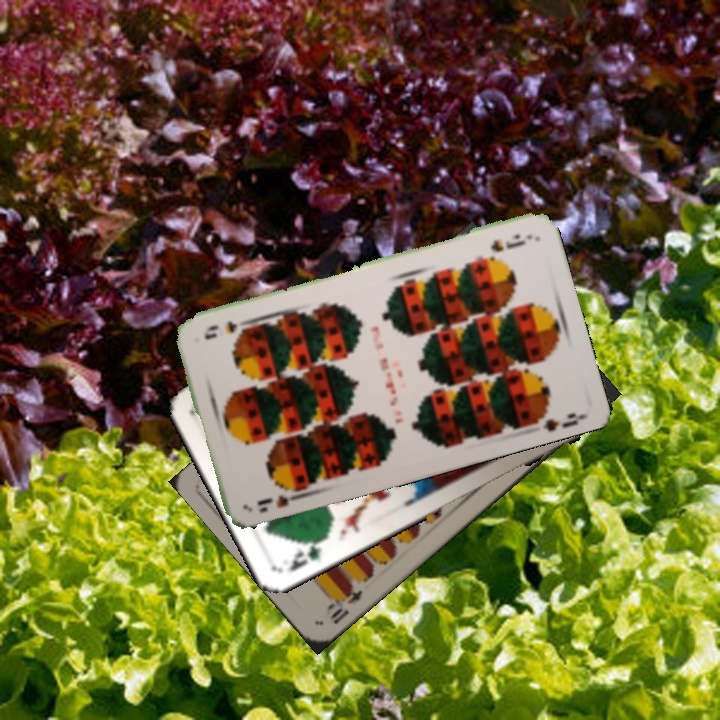E10: (322, 580, 365, 627)
GK: (284, 533, 328, 574)
S9: (253, 479, 306, 511), (486, 229, 523, 255)
